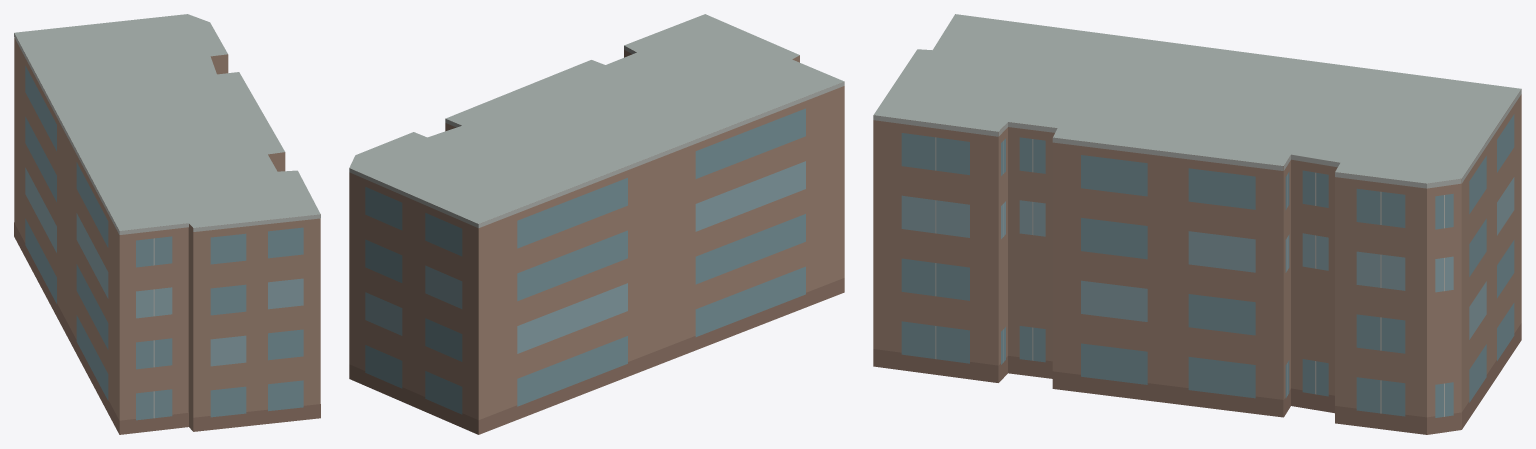
The model's file is survey-upis-32812603.glb.
3 renders of one model, left to right at view 1: azimuth 30°, elevation 25°; view 2: azimuth 150°, elevation 25°; view 3: azimuth 270°, elevation 25°, orthographic. The views are drawn at different scales.
Visible parts, largest first — view 1: survey-upis-32812603.tmp; view 2: survey-upis-32812603.tmp; view 3: survey-upis-32812603.tmp.
Boxes of the visible parts, x1,y1,x2,y2 form: survey-upis-32812603.tmp: (14,14,320,434); survey-upis-32812603.tmp: (349,14,844,434); survey-upis-32812603.tmp: (873,14,1521,434).
Size of the model in its own units: 17.74 by 12.25 by 28.65.
